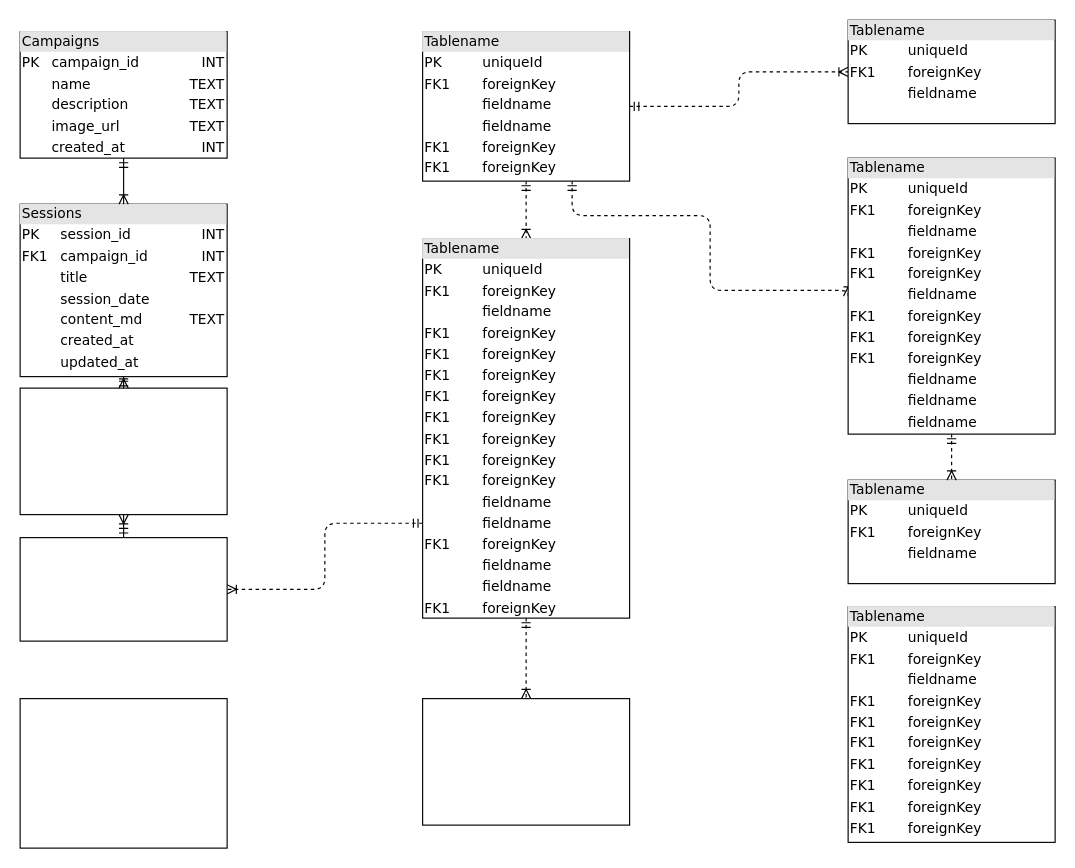
This 1075x868 diagram has some shape labels left out. The shapes that lost their labels are listed below. From the top down, each one's centre as x and y in pixels, then its label:
At point (123, 451): "Characters PK character_id FK1 name description image_url link".
At point (123, 588): "Tablename PK uniqueId FK1 foreignKey fieldname fieldname".
At point (123, 772): "Tablename PK uniqueId FK1 foreignKey fieldname fieldname fieldname fieldname".
At point (525, 761): "Tablename PK uniqueId FK1 foreignKey fieldname fieldname FK1 foreignKey".
